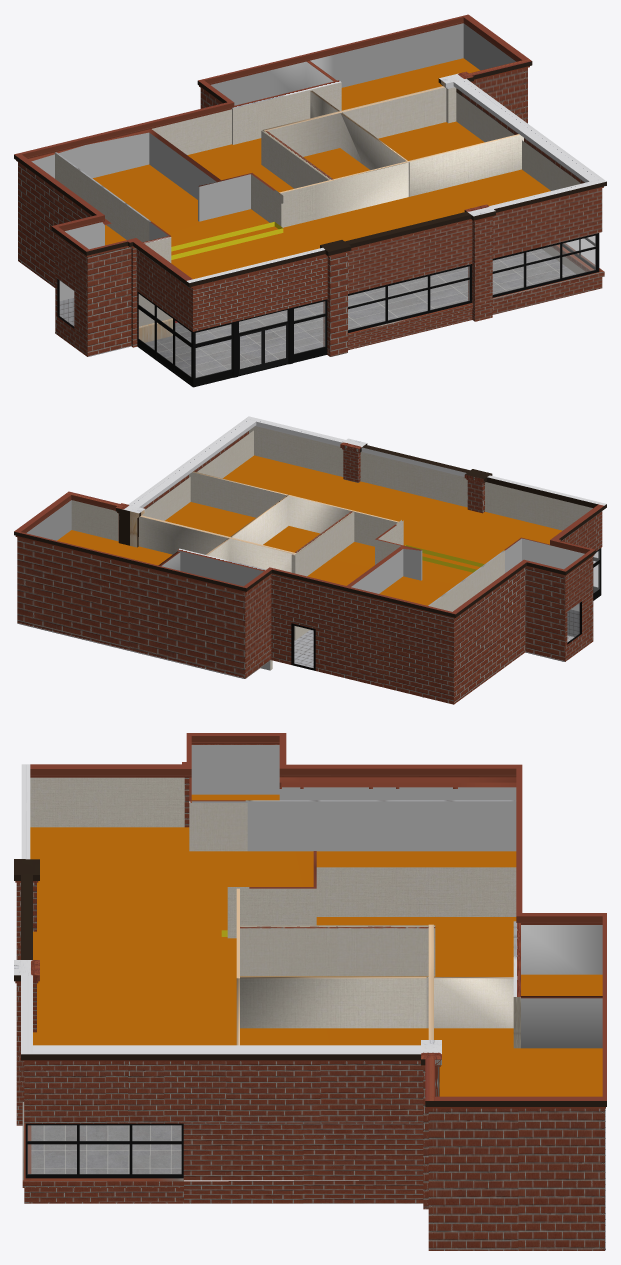
File: new_rest_2 (2).fbx
3 renders of one model, top to bottom at view 1: azimuth 30°, elevation 25°; view 2: azimuth 150°, elevation 25°; view 3: azimuth 270°, elevation 25°, orthographic. The views are drawn at different scales.
Visible parts, largest first — view 1: Cube.001, Cube, Cube.002, Cube.005, Cube.003, Cube.006, Cube.009, Cube.010, Cube.008, Cube.007, Cube.004; view 2: Cube.001, Cube, Cube.009, Cube.010, Cube.002, Cube.005; view 3: Cube.001, Cube, Cube.010, Cube.004, Cube.002.
Boxes of the visible parts, left/top/right/bottom form: Cube.001: left=14, top=14, right=606, bottom=356; Cube: left=93, top=58, right=550, bottom=279; Cube.002: left=55, top=249, right=575, bottom=377; Cube.005: left=137, top=291, right=327, bottom=387; Cube.003: left=348, top=264, right=471, bottom=332; Cube.006: left=492, top=233, right=597, bottom=297; Cube.009: left=408, top=134, right=523, bottom=196; Cube.010: left=54, top=152, right=150, bottom=242; Cube.008: left=239, top=329, right=263, bottom=374; Cube.007: left=263, top=323, right=287, bottom=369; Cube.004: left=562, top=233, right=599, bottom=272; Cube.001: left=14, top=416, right=606, bottom=704; Cube: left=57, top=455, right=562, bottom=605; Cube.009: left=189, top=471, right=287, bottom=517; Cube.010: left=422, top=550, right=504, bottom=697; Cube.002: left=17, top=623, right=574, bottom=678; Cube.005: left=593, top=548, right=601, bottom=600; Cube.001: left=14, top=733, right=606, bottom=1250; Cube: left=30, top=794, right=602, bottom=1096; Cube.010: left=247, top=800, right=516, bottom=851; Cube.004: left=25, top=1123, right=183, bottom=1178; Cube.002: left=31, top=1108, right=605, bottom=1250.
Bounding box in the file's own units: 6403 × 1369 × 4361.
Materials: 20 (7 with a texture image).
